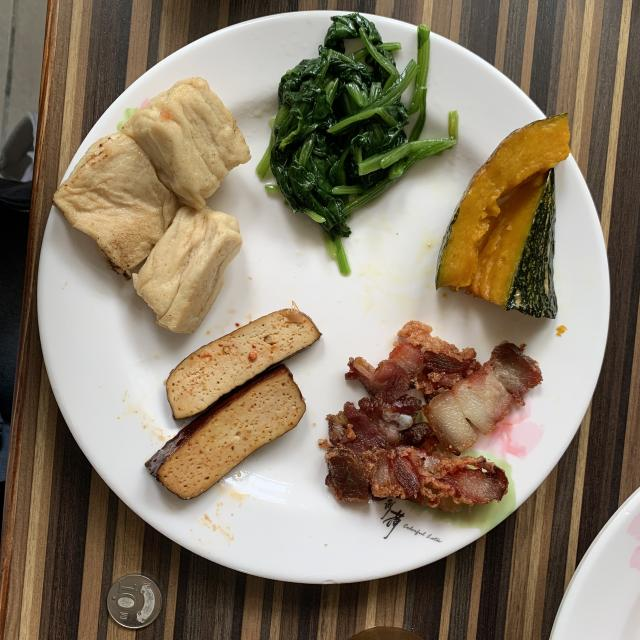coin: (108, 575, 162, 629)
creamy tofu -without sauce-: (54, 78, 250, 332)
firm tofu: (145, 302, 321, 499)
mustard greens: (258, 12, 456, 275)
pumpkin: (436, 114, 570, 319)
red grilled pork: (325, 321, 542, 511)
